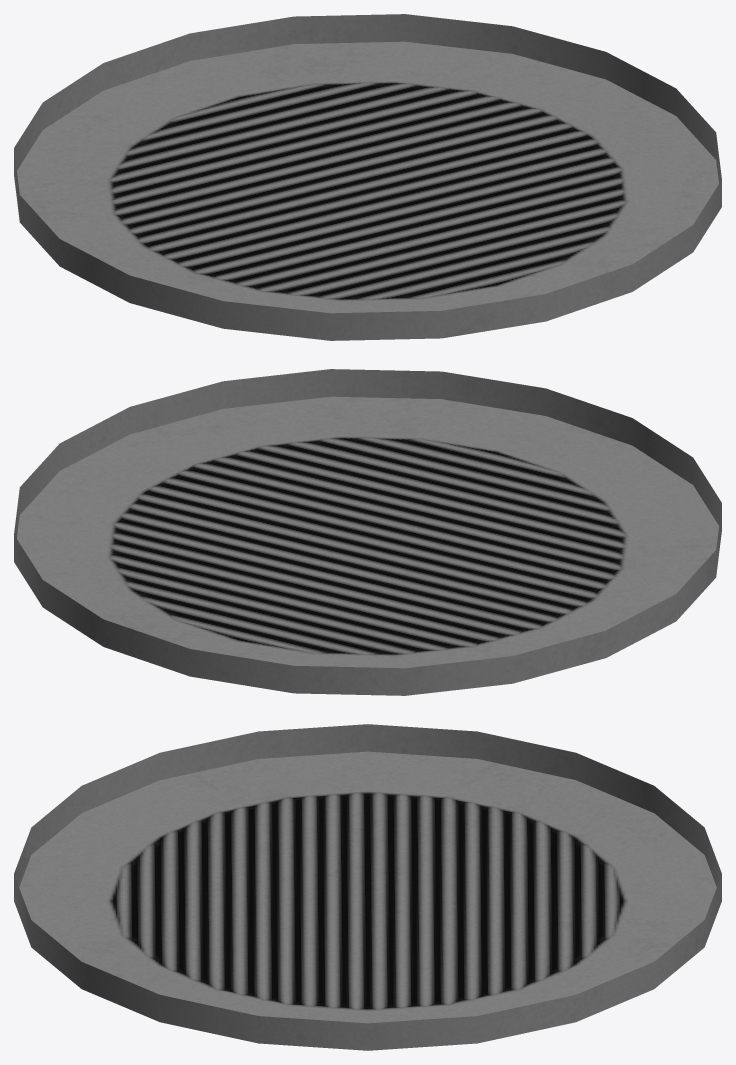
File: Ceiling Exhaust.fbx
3 views of the same model, one above another, from view 1: azimuth 30°, elevation 25°; view 2: azimuth 150°, elevation 25°; view 3: azimuth 270°, elevation 25° (orthographic).
Parts seen in each view (by area): view 1: Ceiling_Exhaust; view 2: Ceiling_Exhaust; view 3: Ceiling_Exhaust.
Part boxes in pixels (left/top/right/bottom): Ceiling_Exhaust: left=14, top=14, right=721, bottom=340; Ceiling_Exhaust: left=14, top=369, right=721, bottom=695; Ceiling_Exhaust: left=14, top=724, right=721, bottom=1050.
Size of the model in its own units: 30.4 by 1.3 by 30.4.
